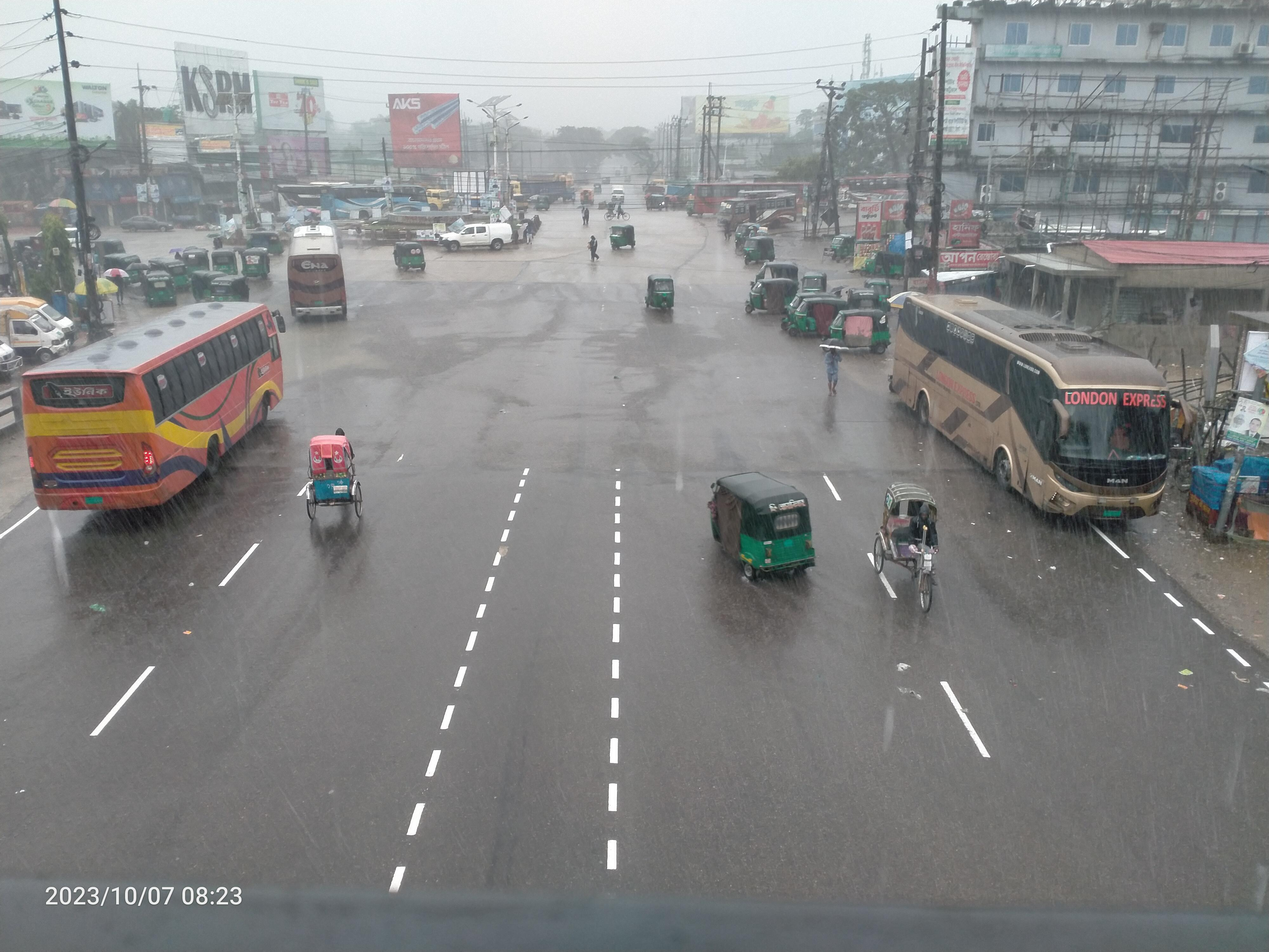Bus: (875, 266, 1186, 548), (16, 294, 296, 518), (283, 213, 362, 331), (683, 175, 814, 219), (316, 176, 433, 221), (708, 190, 805, 235), (834, 169, 909, 222)
Car: (843, 462, 959, 630), (267, 423, 391, 541), (432, 213, 521, 258), (115, 205, 177, 235), (602, 197, 635, 224), (608, 180, 628, 204), (574, 187, 597, 207)
Truck: (427, 180, 454, 215)
